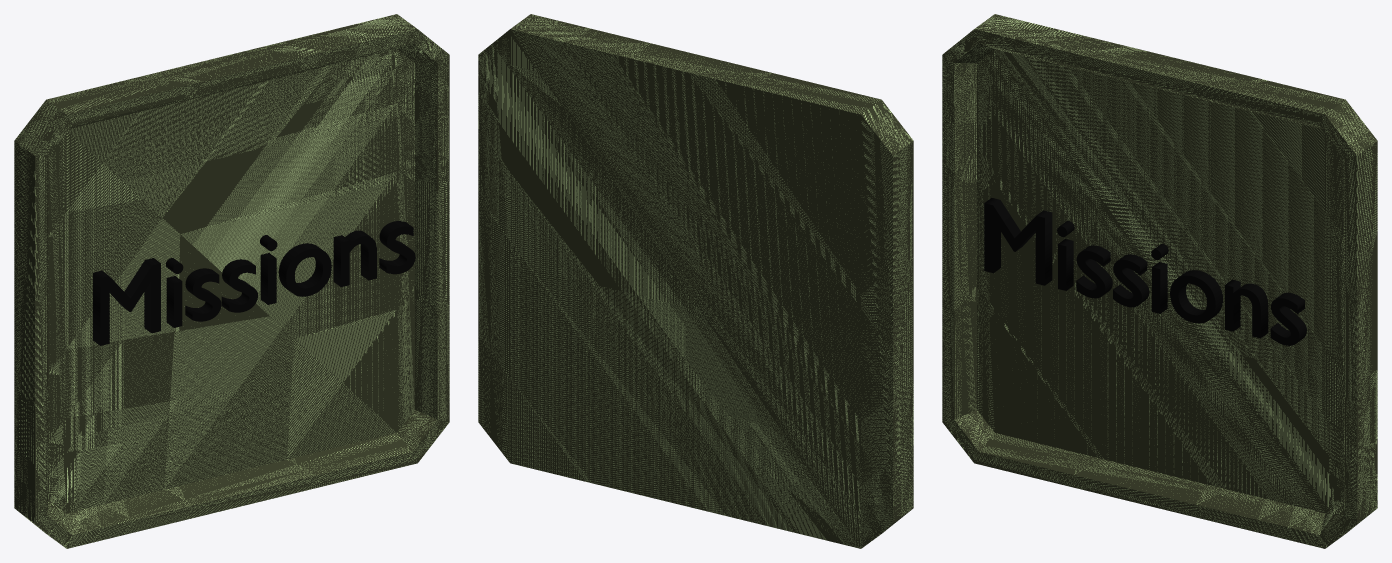
Rendered from Button_Missions.obj.
3 views of the same model, side by side, from view 1: azimuth 30°, elevation 25°; view 2: azimuth 150°, elevation 25°; view 3: azimuth 330°, elevation 25° (orthographic).
Visible parts, largest first — view 1: SketchUp.001, SketchUp, Text; view 2: SketchUp; view 3: SketchUp.001, SketchUp, Text.
Part boxes in pixels (left/top/right/bottom): SketchUp.001: left=47, top=43, right=437, bottom=534; SketchUp: left=14, top=14, right=449, bottom=548; Text: left=93, top=221, right=415, bottom=345; SketchUp: left=478, top=14, right=913, bottom=548; SketchUp.001: left=954, top=43, right=1344, bottom=534; SketchUp: left=942, top=14, right=1377, bottom=548; Text: left=984, top=198, right=1306, bottom=345.
Size of the model in its own units: 1 by 1 by 0.1352.
